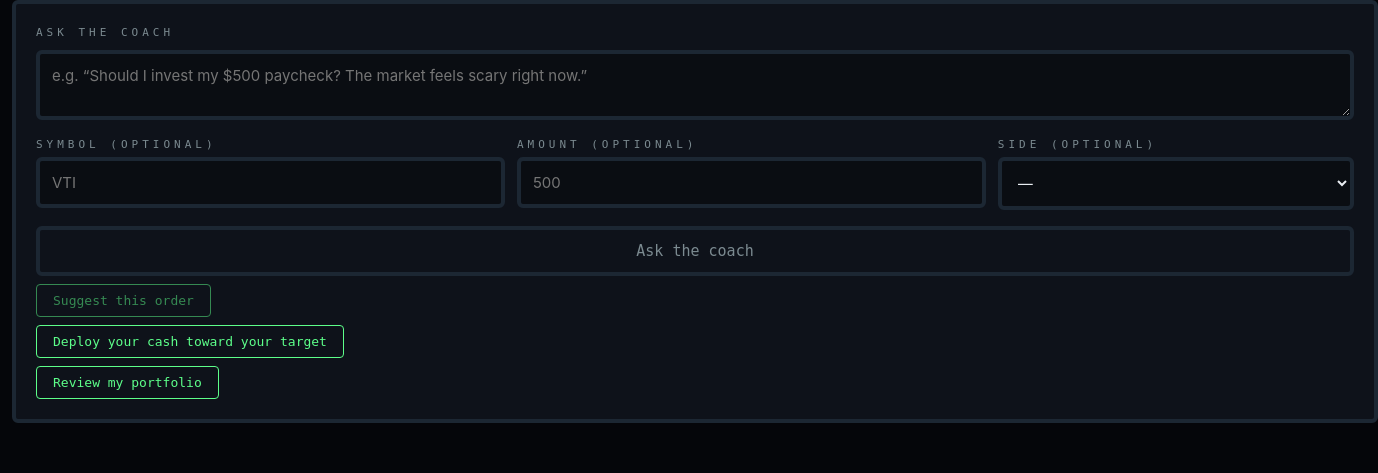
Test: CoachConsult — deploy-my-cash affordance (Story 10.2/10.3) › shows the calm reason and populates NOTHING on a no-action status
Step 1. Click the button with test id "coach-deploy-cash" → (190, 342), box [36,325,344,358]
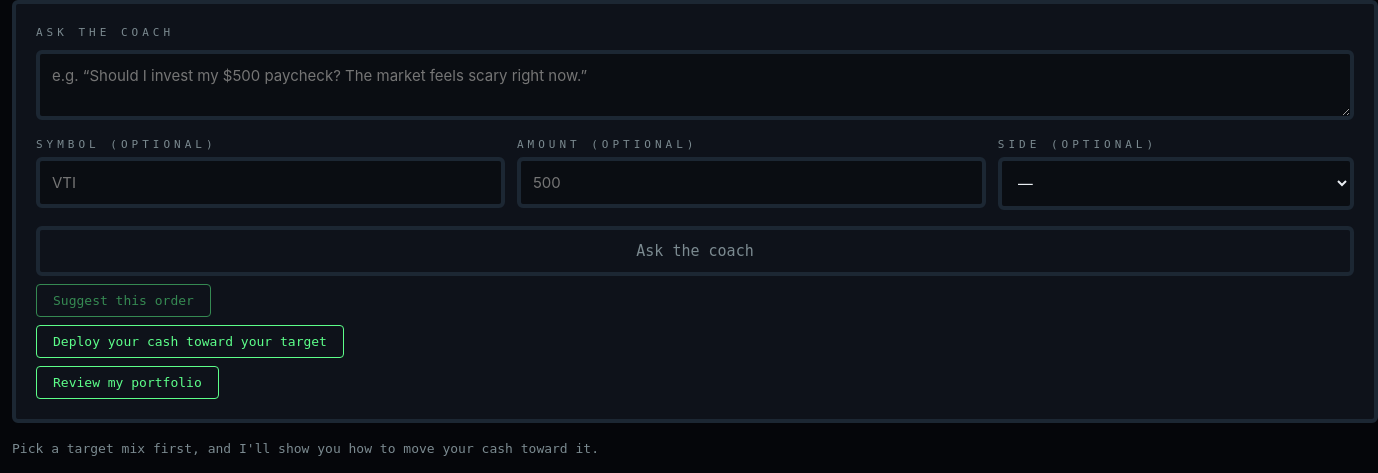
Expected: the field with test id "coach-symbol-input" is empty, [36,157,505,208]
Expected: the message with test id "coach-deploy-no-action" shows "Pick a target mix first", [12,441,599,456]
